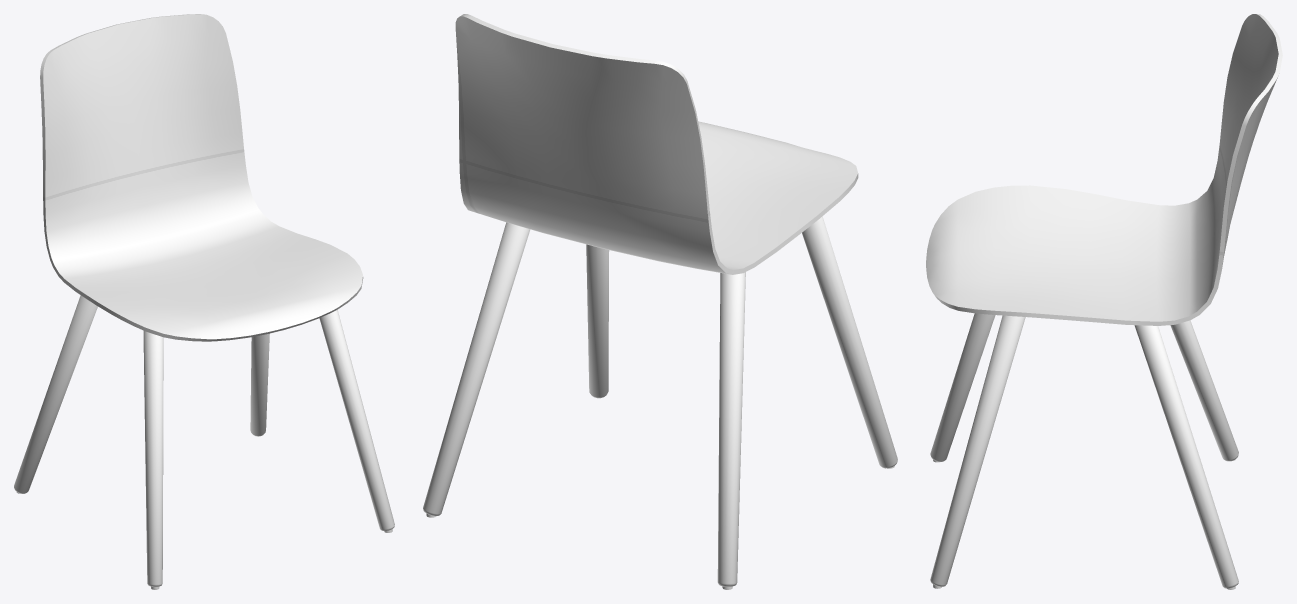
The model's file is Dining_Chair.fbx.
3 renders of one model, left to right at view 1: azimuth 30°, elevation 25°; view 2: azimuth 150°, elevation 25°; view 3: azimuth 270°, elevation 25°, orthographic. The views are drawn at different scales.
Parts seen in each view (by area): view 1: Chair_Universal_Space_Planning_Seat, Chair_Universal_Space_Planning_Legs; view 2: Chair_Universal_Space_Planning_Seat, Chair_Universal_Space_Planning_Legs; view 3: Chair_Universal_Space_Planning_Seat, Chair_Universal_Space_Planning_Legs.
Part boxes in pixels (x1=…): Chair_Universal_Space_Planning_Seat: x1=40, y1=14, x2=363, y2=341; Chair_Universal_Space_Planning_Legs: x1=14, y1=295, x2=394, y2=586; Chair_Universal_Space_Planning_Seat: x1=455, y1=14, x2=858, y2=274; Chair_Universal_Space_Planning_Legs: x1=423, y1=216, x2=897, y2=586; Chair_Universal_Space_Planning_Seat: x1=926, y1=14, x2=1282, y2=325; Chair_Universal_Space_Planning_Legs: x1=930, y1=313, x2=1238, y2=588.
Size of the model in its own units: 48.05 by 77.6 by 53.42.
